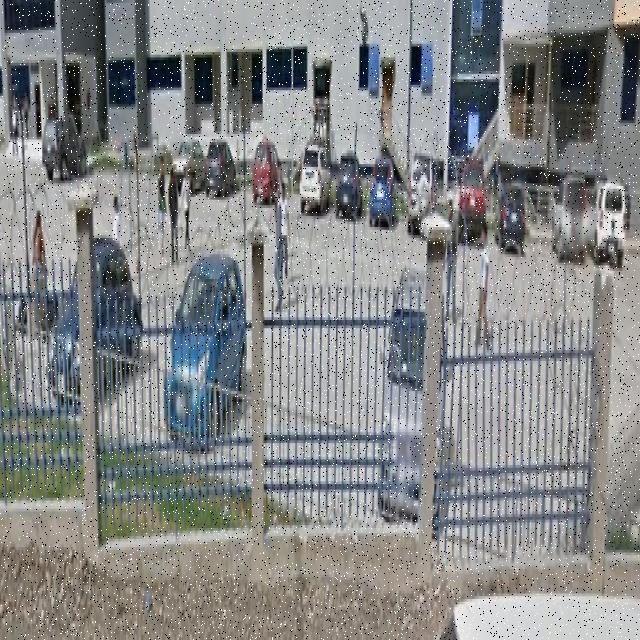cars: (171, 238, 248, 465)
